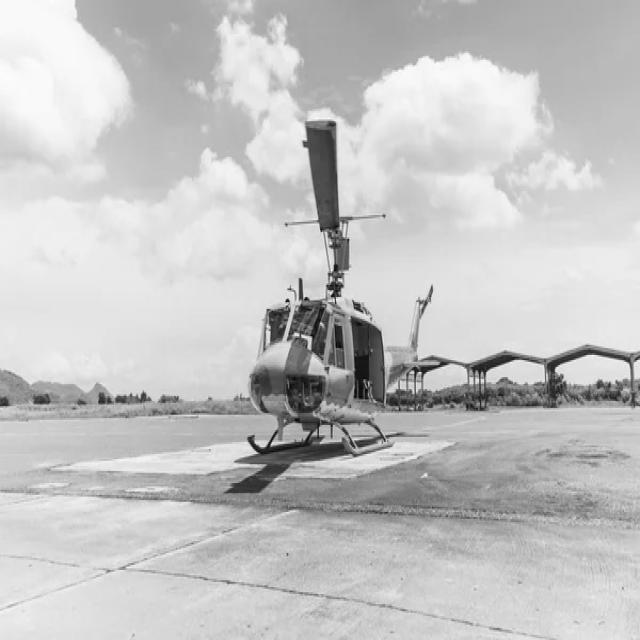Helicopter: (248, 120, 432, 453)
